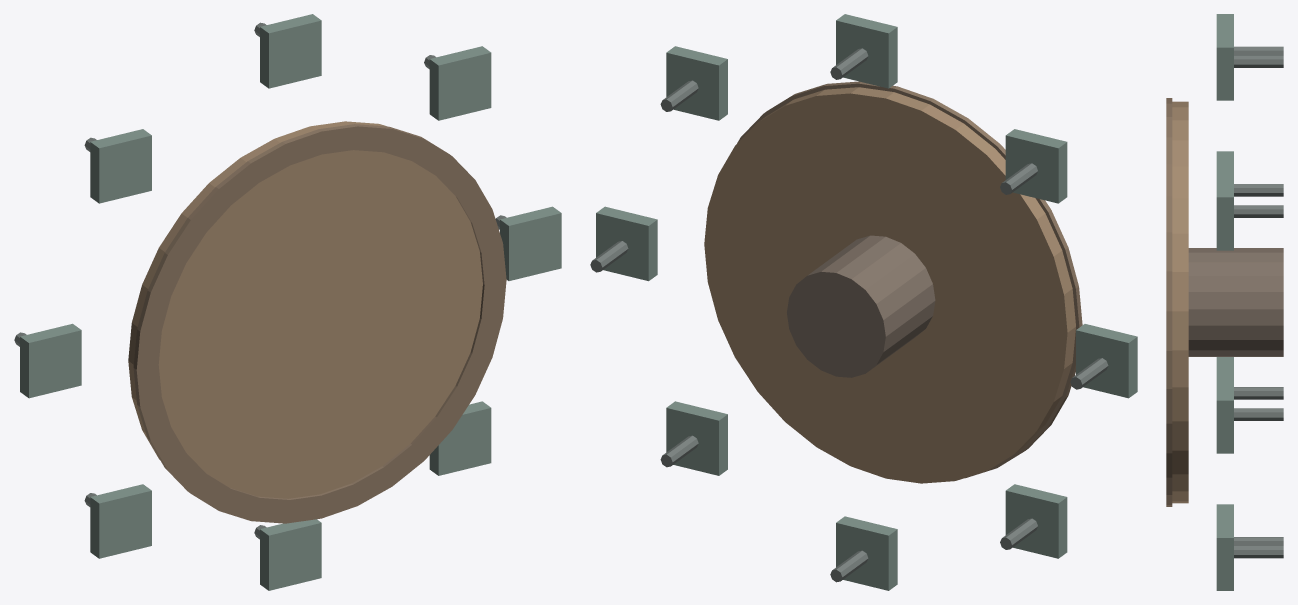
Rendered from cooperative-table-high.glb.
3 renders of one model, left to right at view 1: azimuth 30°, elevation 25°; view 2: azimuth 150°, elevation 25°; view 3: azimuth 270°, elevation 25°, orthographic. The views are drawn at different scales.
Parts seen in each view (by area): view 1: table-top, edge-ring, seat-1, seat-5, seat-2, seat-3, seat-4, seat-6, seat-0, seat-7; view 2: table-top, table-base, edge-ring, seat-3, seat-5, seat-0, seat-6, seat-2, seat-1, seat-4, seat-7; view 3: table-base, table-top, edge-ring, seat-1, seat-0, seat-2, seat-7, seat-leg-0, seat-leg-1, seat-leg-2, seat-leg-4, seat-leg-5 (+6 smaller).
Part boxes in pixels (x1,y1,x2,y2): table-top: [128, 121, 482, 498]; edge-ring: [133, 124, 506, 523]; seat-1: [429, 46, 491, 120]; seat-5: [90, 484, 151, 558]; seat-2: [260, 14, 321, 88]; seat-3: [90, 129, 151, 203]; seat-4: [20, 323, 81, 398]; seat-6: [260, 519, 321, 590]; seat-0: [500, 206, 561, 280]; seat-7: [429, 401, 491, 475]; table-top: [704, 87, 1075, 483]; table-base: [787, 235, 935, 377]; edge-ring: [737, 81, 1082, 478]; seat-3: [1005, 129, 1067, 203]; seat-5: [1005, 484, 1067, 558]; seat-0: [596, 206, 657, 281]; seat-6: [836, 516, 897, 590]; seat-2: [836, 14, 897, 88]; seat-1: [666, 46, 727, 120]; seat-4: [1076, 324, 1137, 398]; seat-7: [666, 401, 727, 475]; table-base: [1188, 248, 1283, 356]; table-top: [1172, 101, 1188, 503]; edge-ring: [1166, 98, 1172, 506]; seat-1: [1216, 172, 1233, 250]; seat-0: [1216, 376, 1233, 453]; seat-2: [1216, 23, 1233, 100]; seat-7: [1216, 513, 1233, 590]; seat-leg-0: [1234, 408, 1283, 420]; seat-leg-1: [1234, 205, 1283, 217]; seat-leg-2: [1234, 55, 1283, 67]; seat-leg-4: [1234, 184, 1283, 196]; seat-leg-5: [1234, 387, 1283, 399].
Size of the model in its own units: 4.84 by 4.84 by 0.965.
